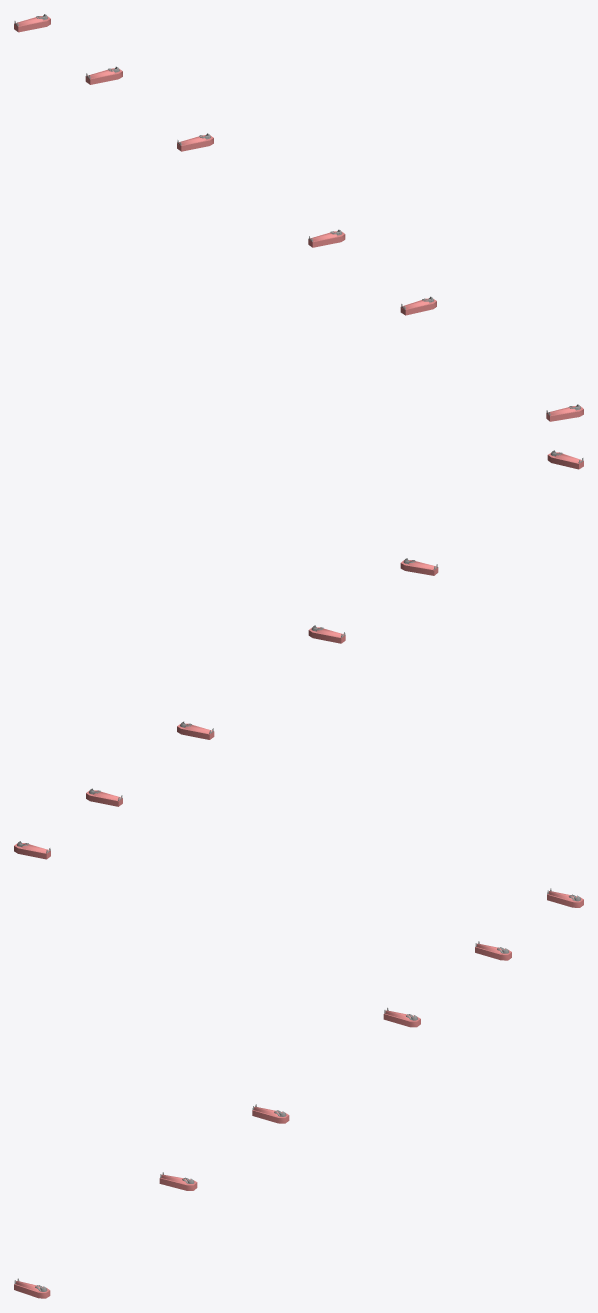
The model's file is SSQ_dungeon_S__SSQ_coffin_set.gltf.
3 renders of one model, top to bottom at view 1: azimuth 30°, elevation 25°; view 2: azimuth 150°, elevation 25°; view 3: azimuth 330°, elevation 25°, orthographic.
Parts seen in each view (by area): view 1: SSQ_coffin_set; view 2: SSQ_coffin_set; view 3: SSQ_coffin_set.
Boxes of the visible parts, x1,y1,x2,y2 form: SSQ_coffin_set: [14, 14, 583, 421]; SSQ_coffin_set: [14, 450, 583, 859]; SSQ_coffin_set: [14, 888, 583, 1298].
Size of the model in its own units: 0.6613 by 0.1891 by 18.6.
